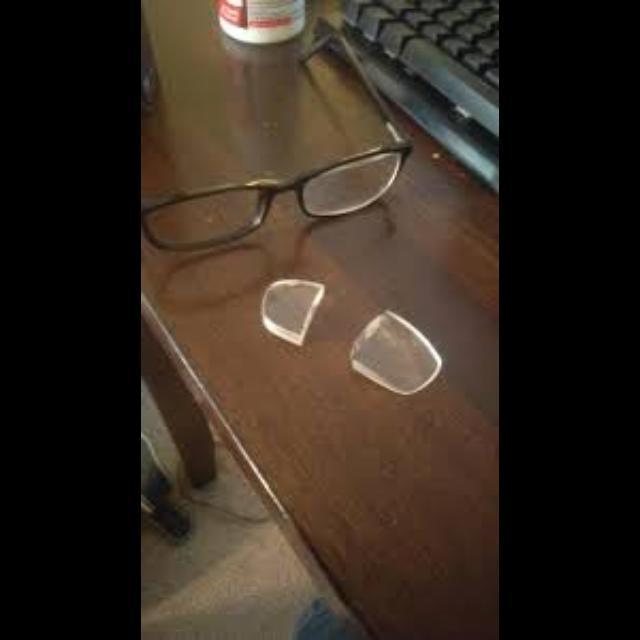mask: (141, 28, 415, 254)
